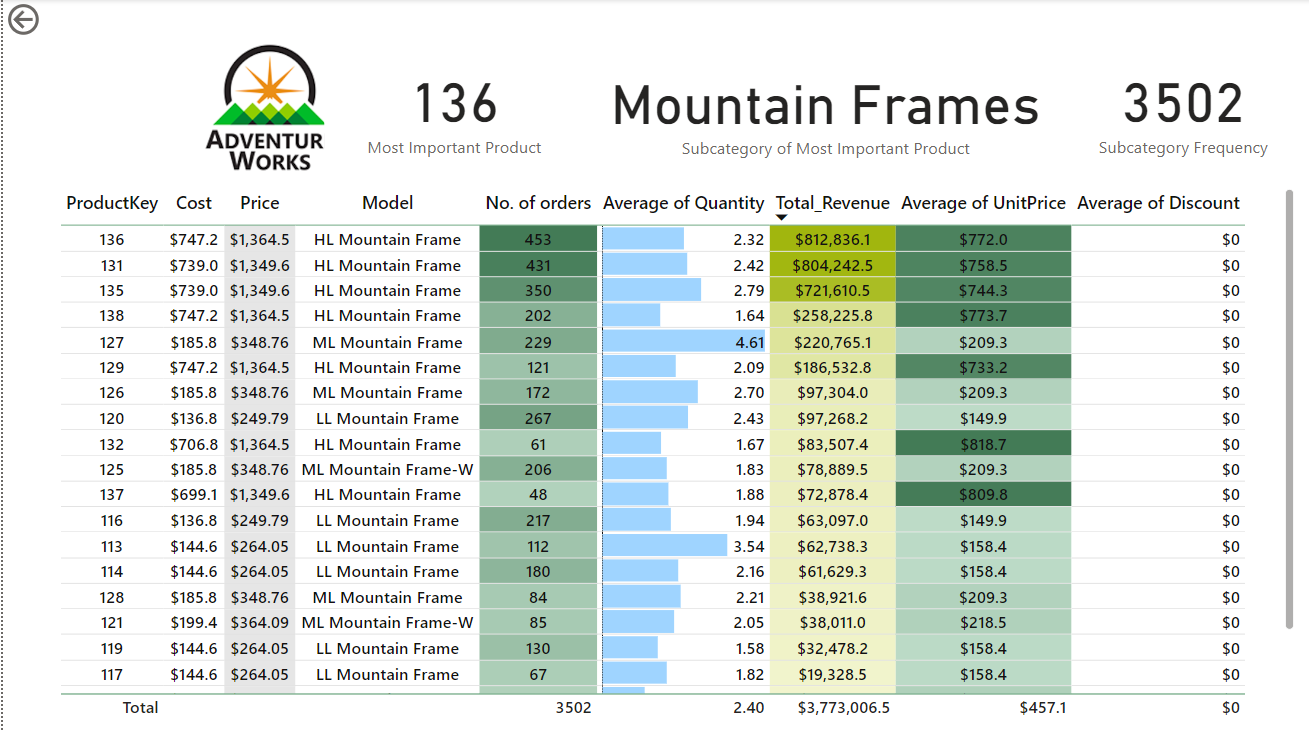

Layout of this report page (visuals, bound fields, positions):
{"tool":"powerbi","page":{"name":"Product_Details","canvas":[1280,720],"ordinal":3},"visuals":[{"type":"image","box":[79.2,31.9,362.5,148.6],"z":0},{"type":"actionButton","box":[0,0,100,40],"z":1000},{"type":"tableEx","fields":{"Values":["ProductInfo.ProductKey","ProductInfo.Cost","ProductInfo.Price","ProductInfo.Model","CountNonNull(FactSales.SalesOrderID)","Avg(FactSales.Quantity)","Sum(FactSales.LineTotal)","Avg(FactSales.UnitPrice)","Avg(FactSales.Discount)"]},"box":[50.1,181,1217.9,528.3],"z":2000},{"type":"card","fields":{"Values":["FactSales.Most Important Product"]},"box":[314.1,30.3,254.8,150.1],"z":2001},{"type":"card","fields":{"Values":["FactSales.Subcategory of Most Important Product"]},"box":[569,31.5,473.1,150.1],"z":2002},{"type":"card","fields":{"Values":["FactSales.Subcategory Frequency"]},"box":[1042,31,226,150],"z":2003}]}

Visuals, with their boxes in screenshot pixels (x1, y1, x2, y2), scaled from the page's 1280x720 canvas onto the 1309x732 screenshot:
image: pyautogui.locateOnScreen(81, 32, 452, 184)
actionButton: pyautogui.locateOnScreen(0, 0, 102, 41)
tableEx - ProductInfo.ProductKey x ProductInfo.Cost: pyautogui.locateOnScreen(51, 184, 1297, 721)
card - FactSales.Most Important Product: pyautogui.locateOnScreen(321, 31, 582, 183)
card - FactSales.Subcategory of Most Important Product: pyautogui.locateOnScreen(582, 32, 1066, 185)
card - FactSales.Subcategory Frequency: pyautogui.locateOnScreen(1066, 32, 1297, 184)
